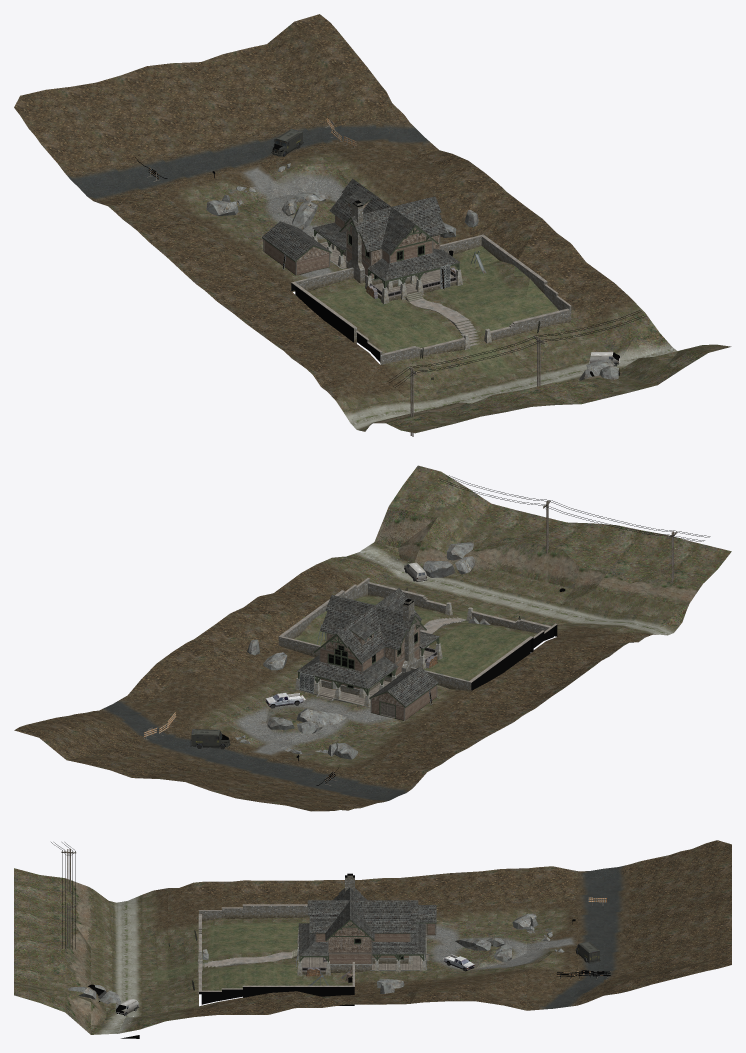
The model's file is farm.glb.
The picture shows the model from 3 angles, top to bottom: view 1: azimuth 30°, elevation 25°; view 2: azimuth 150°, elevation 25°; view 3: azimuth 270°, elevation 25°; orthographic projection. The views are drawn at different scales.
Visible parts, largest first — view 1: Material3 (×16), Material2 (×2); view 2: Material3 (×18), Material2 (×2); view 3: Material3 (×19), Material2 (×2).
Boxes of the visible parts, x1,y1,x2,y2 form: Material3 (×16): (64, 103, 731, 433); Material2 (×2): (14, 14, 644, 400); Material3 (×18): (87, 465, 731, 802); Material2 (×2): (14, 475, 710, 811); Material3 (×19): (14, 848, 629, 1034); Material2 (×2): (51, 840, 731, 1038).
Size of what is drawn, in the model's own units: 2810 by 919 by 6296.
Materials: 99 (99 with a texture image).
